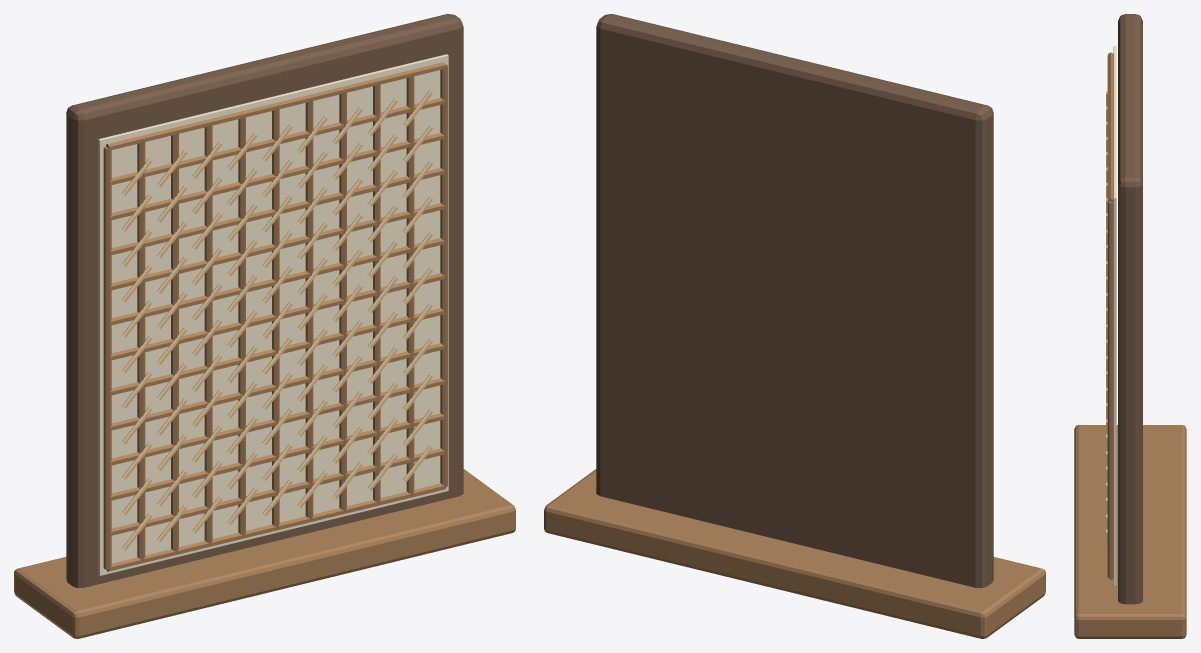
The model's file is woodwork_kumiko.glb.
The picture shows the model from 3 angles, left to right: view 1: azimuth 30°, elevation 25°; view 2: azimuth 150°, elevation 25°; view 3: azimuth 270°, elevation 25°; orthographic projection. The views are drawn at different scales.
Visible parts, largest first — view 1: Kumiko translucent white backing, Kumiko rectangular surrounding frame, Kumiko stand foot, Kumiko full tiny timber lattice_v0, Kumiko full tiny timber lattice_v10, Kumiko full tiny timber lattice_v1, Kumiko full tiny timber lattice_v3, Kumiko full tiny timber lattice_v6, Kumiko full tiny timber lattice_v9, Kumiko full tiny timber lattice_v2, Kumiko full tiny timber lattice_h12, Kumiko full tiny timber lattice_v4 (+15 smaller); view 2: Kumiko rectangular surrounding frame, Kumiko stand foot; view 3: Kumiko stand foot, Kumiko rectangular surrounding frame, Kumiko full tiny timber lattice_v10, Kumiko translucent white backing, Kumiko full tiny timber lattice_h12.
Boxes of the visible parts, x1,y1,x2,y2 form: Kumiko translucent white backing: [98, 54, 448, 575]; Kumiko rectangular surrounding frame: [66, 14, 463, 588]; Kumiko stand foot: [14, 469, 515, 638]; Kumiko full tiny timber lattice_v0: [103, 146, 111, 569]; Kumiko full tiny timber lattice_v10: [440, 64, 447, 487]; Kumiko full tiny timber lattice_v1: [137, 140, 145, 561]; Kumiko full tiny timber lattice_v3: [204, 124, 212, 544]; Kumiko full tiny timber lattice_v6: [305, 99, 313, 520]; Kumiko full tiny timber lattice_v9: [406, 75, 414, 495]; Kumiko full tiny timber lattice_v2: [171, 132, 178, 553]; Kumiko full tiny timber lattice_h12: [106, 62, 445, 150]; Kumiko full tiny timber lattice_v4: [238, 116, 245, 536]; Kumiko rectangular surrounding frame: [596, 14, 993, 588]; Kumiko stand foot: [544, 469, 1045, 638]; Kumiko stand foot: [1074, 425, 1186, 638]; Kumiko rectangular surrounding frame: [1118, 14, 1142, 604]; Kumiko full tiny timber lattice_v10: [1107, 202, 1113, 578]; Kumiko translucent white backing: [1113, 46, 1116, 586]; Kumiko full tiny timber lattice_h12: [1108, 52, 1113, 201].
Size of the model in its own units: 1.8 by 1.95 by 0.4421.
